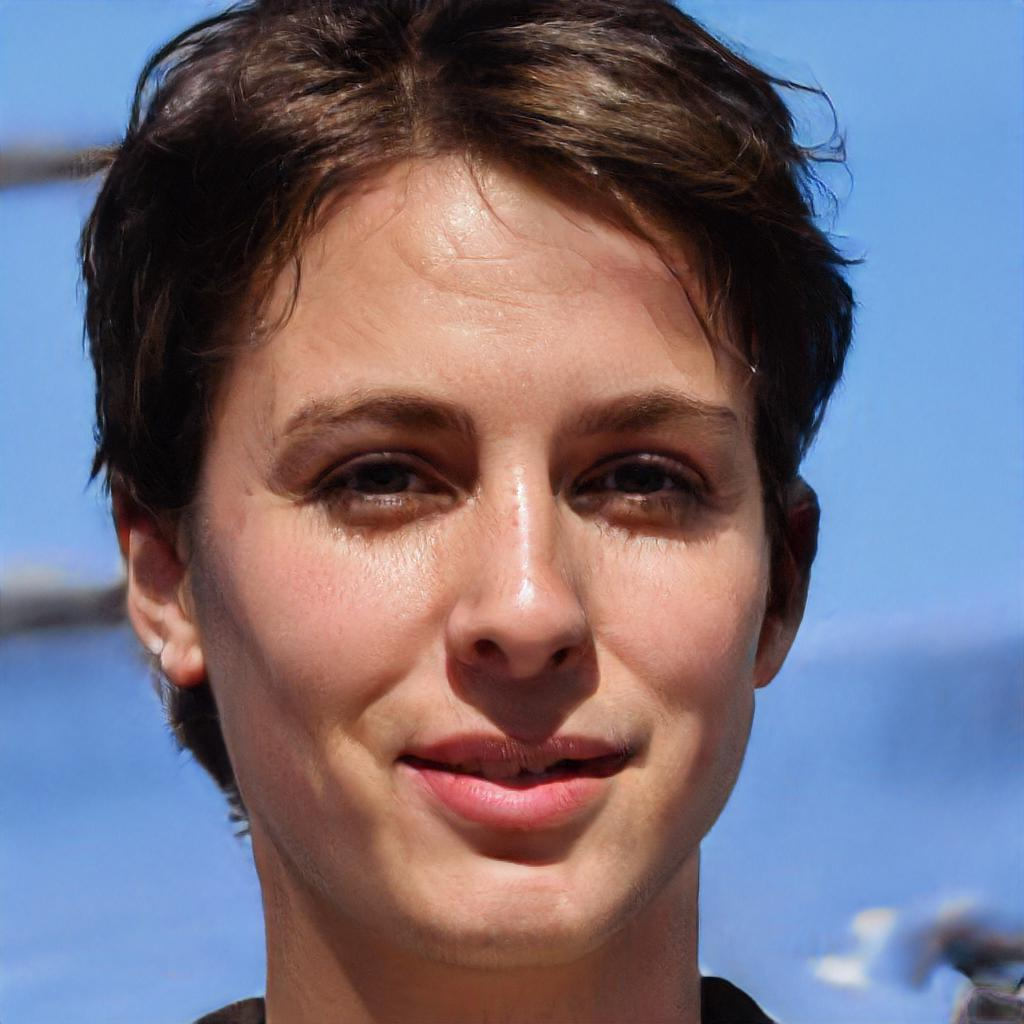face: (192, 163, 770, 966)
